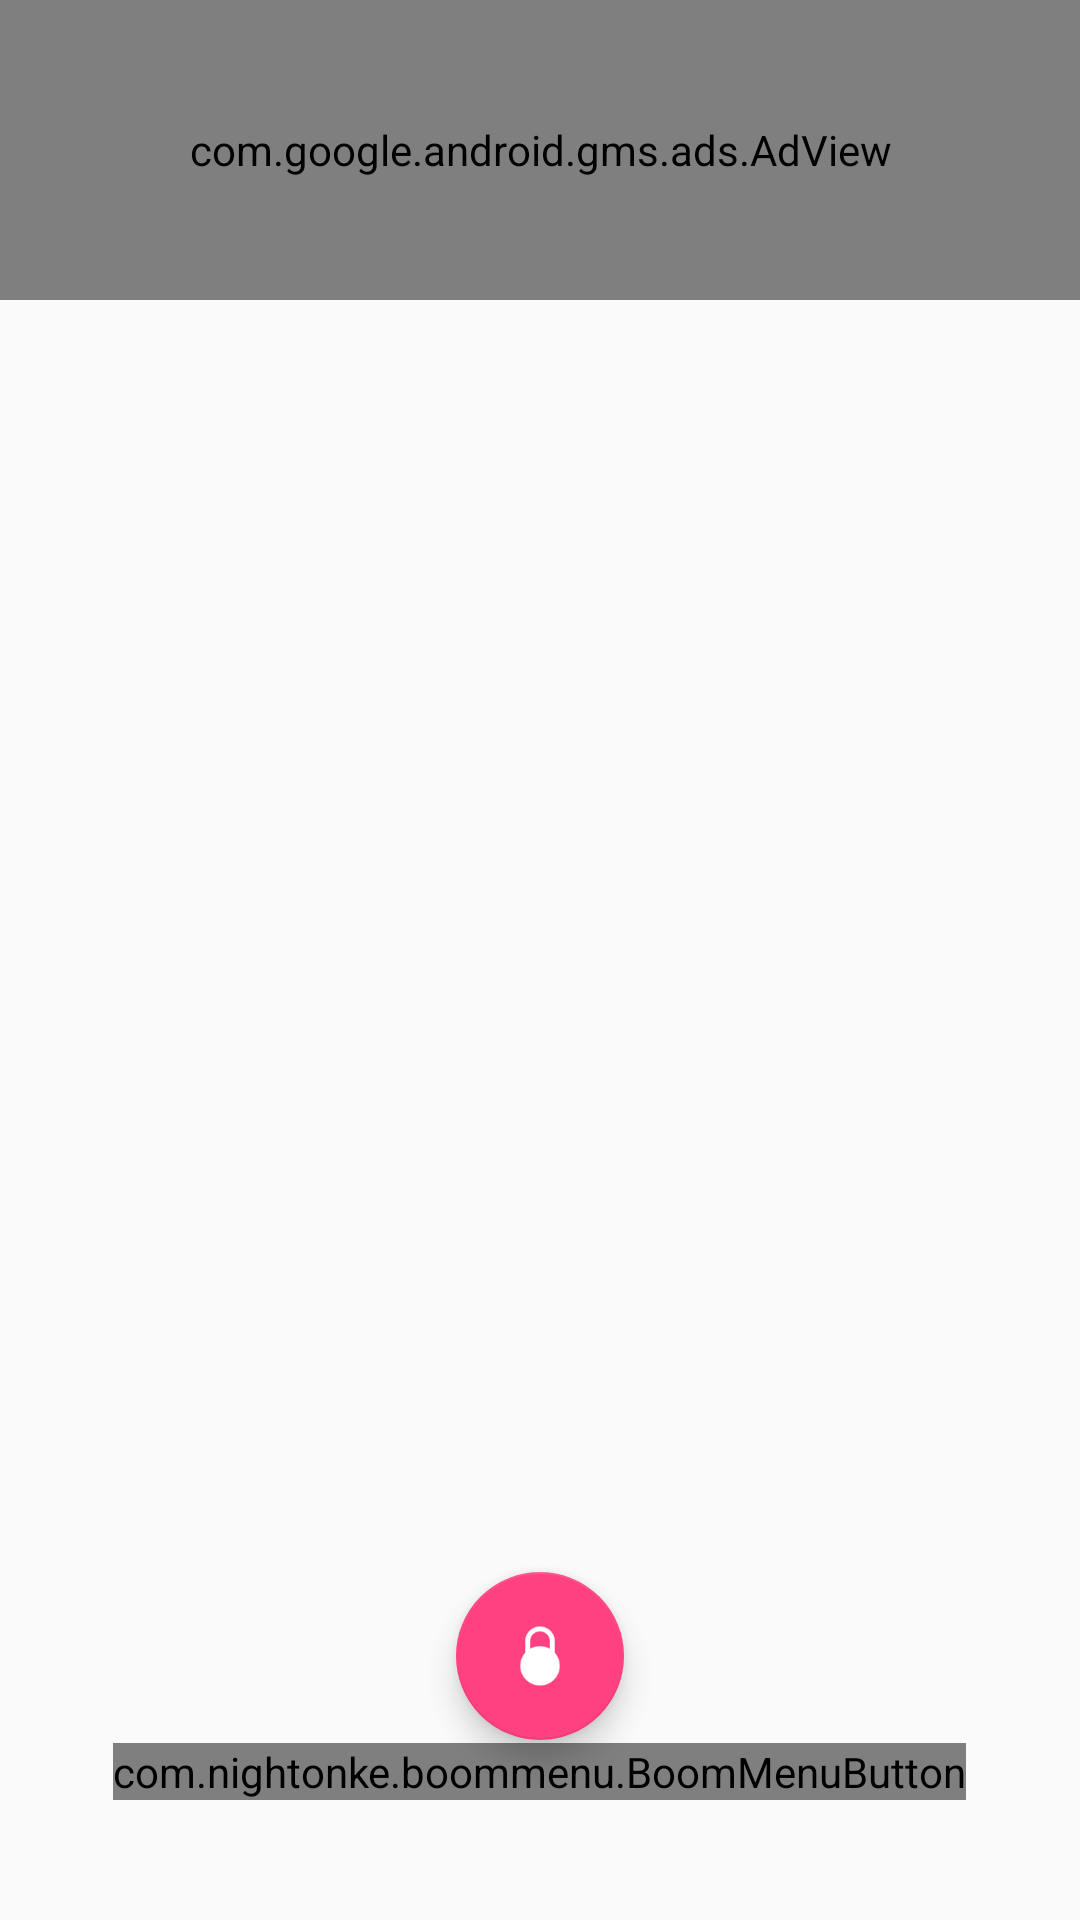

Icon bounding boxes for this 1080w x 1920h phone screenshot, format (x1, y1, x2, y2):
login: (456, 1572, 624, 1740)
